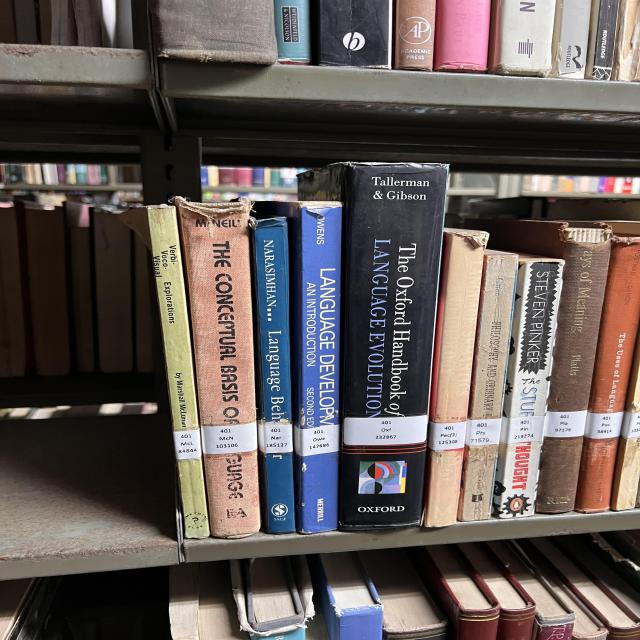Book: (298, 162, 448, 530), (478, 220, 612, 514), (120, 205, 210, 539), (255, 201, 342, 534), (175, 198, 260, 538), (423, 229, 488, 528), (493, 255, 565, 519), (575, 236, 640, 512), (252, 218, 295, 534), (468, 250, 518, 420)
Label: (343, 415, 428, 445), (202, 421, 257, 454), (293, 425, 340, 456), (500, 416, 545, 444), (543, 410, 587, 438), (428, 421, 467, 450), (583, 411, 623, 439), (258, 424, 293, 454), (465, 419, 502, 446), (173, 429, 202, 460)
